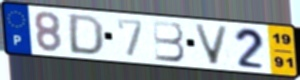2: (233, 26, 270, 73)
7: (115, 18, 145, 59)
8: (33, 10, 64, 53)
B: (151, 19, 188, 63)
D: (67, 13, 106, 56)
V: (191, 23, 231, 67)
